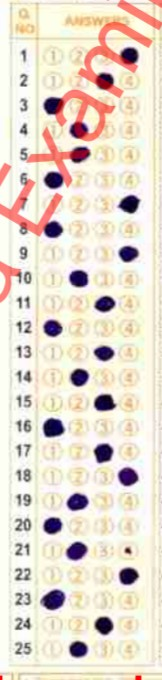filled circles: (41, 590, 64, 609), (43, 418, 65, 437), (66, 541, 87, 560), (94, 394, 116, 411), (94, 443, 113, 462), (119, 195, 139, 213), (67, 493, 88, 510), (118, 467, 137, 485), (95, 616, 113, 634), (70, 368, 88, 386), (43, 319, 62, 336), (119, 567, 138, 584), (43, 517, 61, 534), (44, 171, 62, 188), (44, 97, 62, 114), (95, 296, 114, 312), (119, 246, 138, 262), (70, 147, 90, 162), (96, 72, 113, 89), (69, 270, 87, 286), (44, 221, 62, 237), (69, 641, 87, 657), (94, 345, 113, 360), (70, 122, 87, 137), (121, 47, 138, 62), (124, 546, 131, 555)
